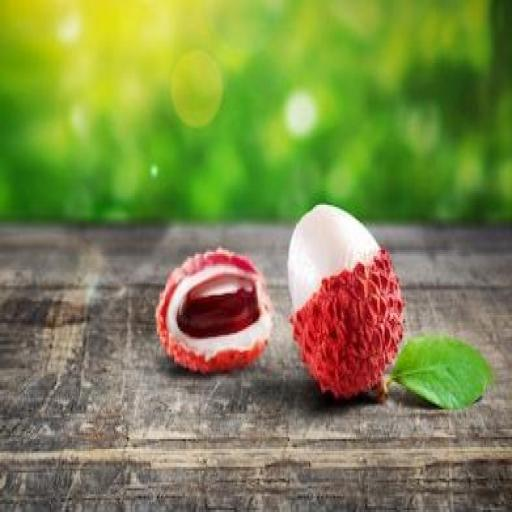lychee: (288, 205, 402, 397), (155, 249, 271, 372)
